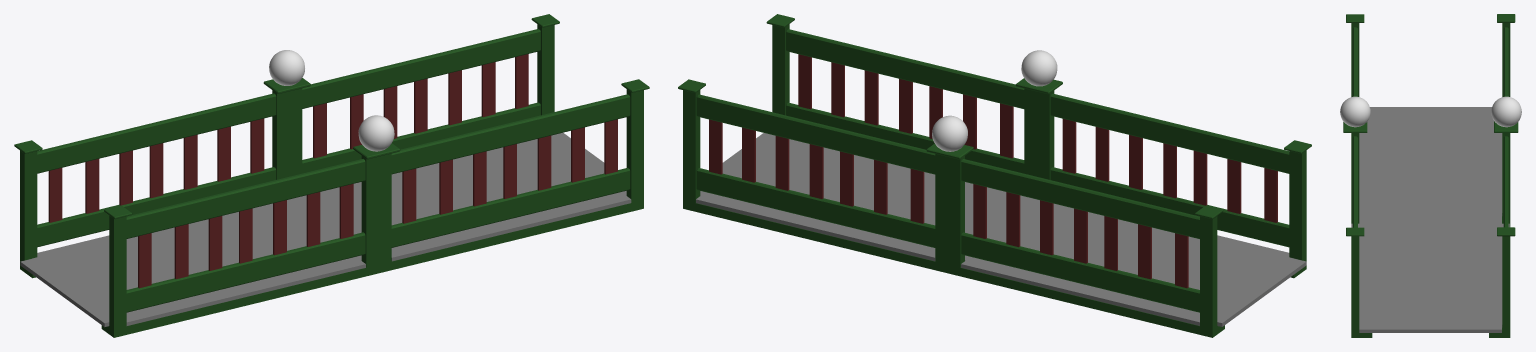
Rendered from bridgey_cowgame2.fbx.
3 renders of one model, left to right at view 1: azimuth 30°, elevation 25°; view 2: azimuth 150°, elevation 25°; view 3: azimuth 270°, elevation 25°, orthographic. The views are drawn at different scales.
Parts seen in each view (by area): view 1: pCube42; view 2: pCube42; view 3: pCube42.
Boxes of the visible parts, x1,y1,x2,y2 form: pCube42: (14, 14, 649, 337); pCube42: (678, 14, 1311, 337); pCube42: (1340, 14, 1521, 337).
Size of the model in its own units: 0.6568 by 0.1798 by 0.2269.
